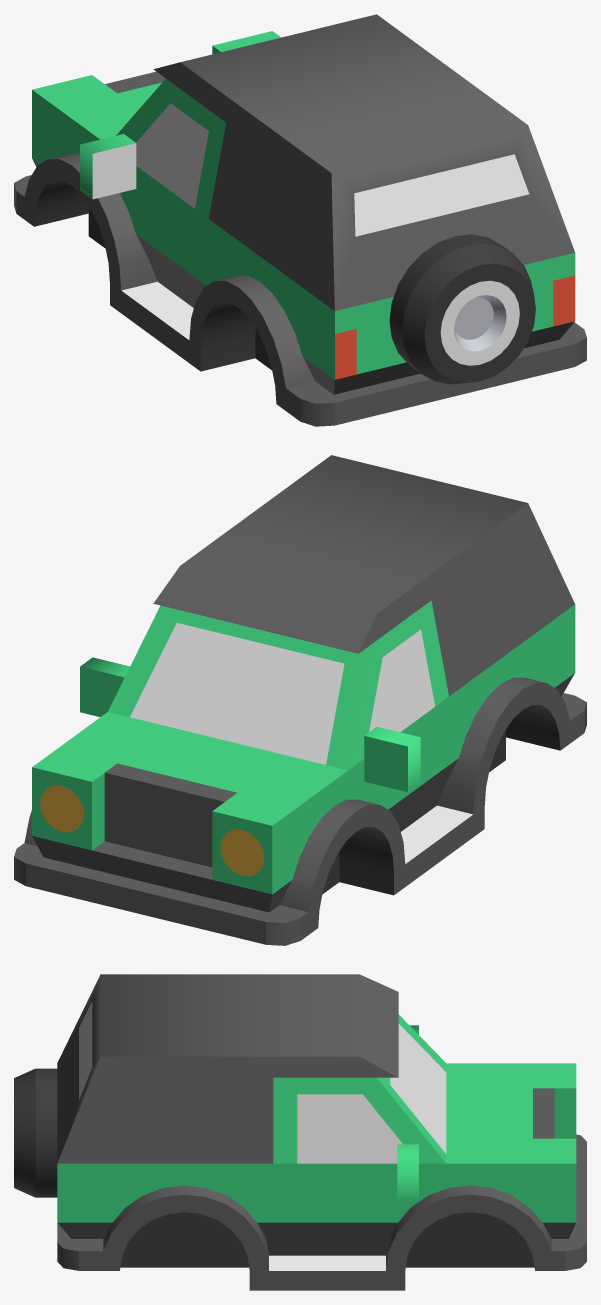
Rendered from suv_body.glb.
3 renders of one model, top to bottom at view 1: azimuth 30°, elevation 25°; view 2: azimuth 150°, elevation 25°; view 3: azimuth 270°, elevation 25°, orthographic. The views are drawn at different scales.
Visible parts, largest first — view 1: body, wheel_back; view 2: body; view 3: body, wheel_back.
Boxes of the visible parts, x1,y1,x2,y2 form: body: (14,14,586,426); wheel_back: (389,234,535,384); body: (14,455,586,945); body: (57,974,586,1290); wheel_back: (14,1068,57,1197).
Size of the model in its own units: 1.5 by 1.1 by 2.65.
